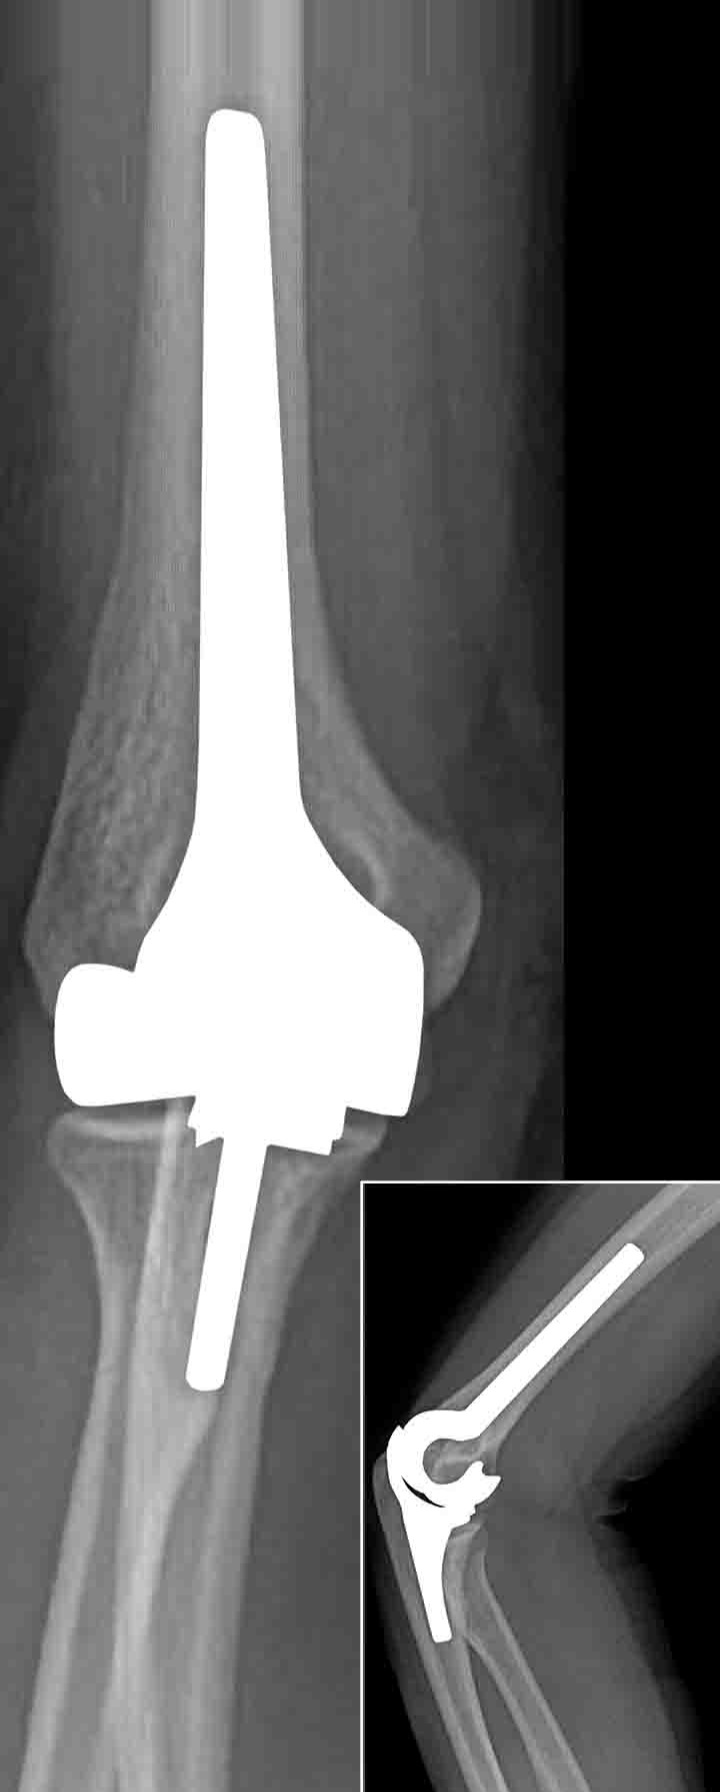Elbow - IBP - Biomet: (18, 86, 437, 1395), (365, 1207, 670, 1650)
